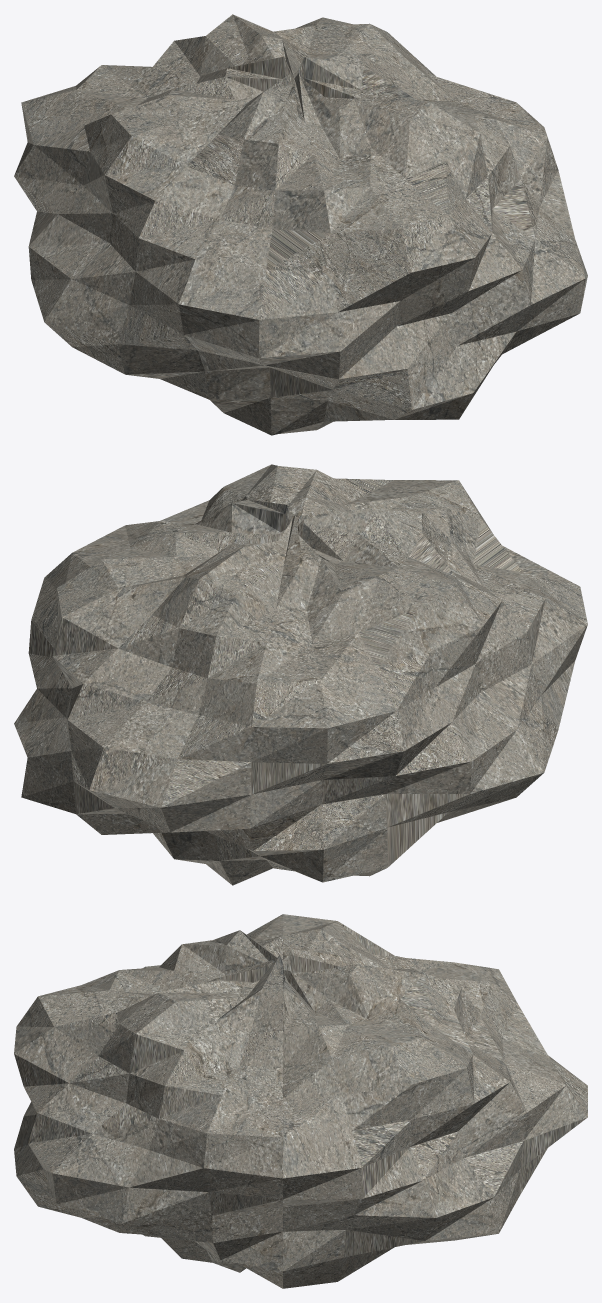
Rendered from boulder_2.glb.
3 renders of one model, top to bottom at view 1: azimuth 30°, elevation 25°; view 2: azimuth 150°, elevation 25°; view 3: azimuth 270°, elevation 25°, orthographic. The views are drawn at different scales.
Visible parts, largest first — view 1: boulder_2; view 2: boulder_2; view 3: boulder_2.
Part boxes in pixels (left/top/right/bottom): boulder_2: left=14, top=14, right=587, bottom=435; boulder_2: left=14, top=464, right=587, bottom=885; boulder_2: left=14, top=914, right=587, bottom=1288.
Bounding box in the file's own units: 2.58 × 1.65 × 2.84.
